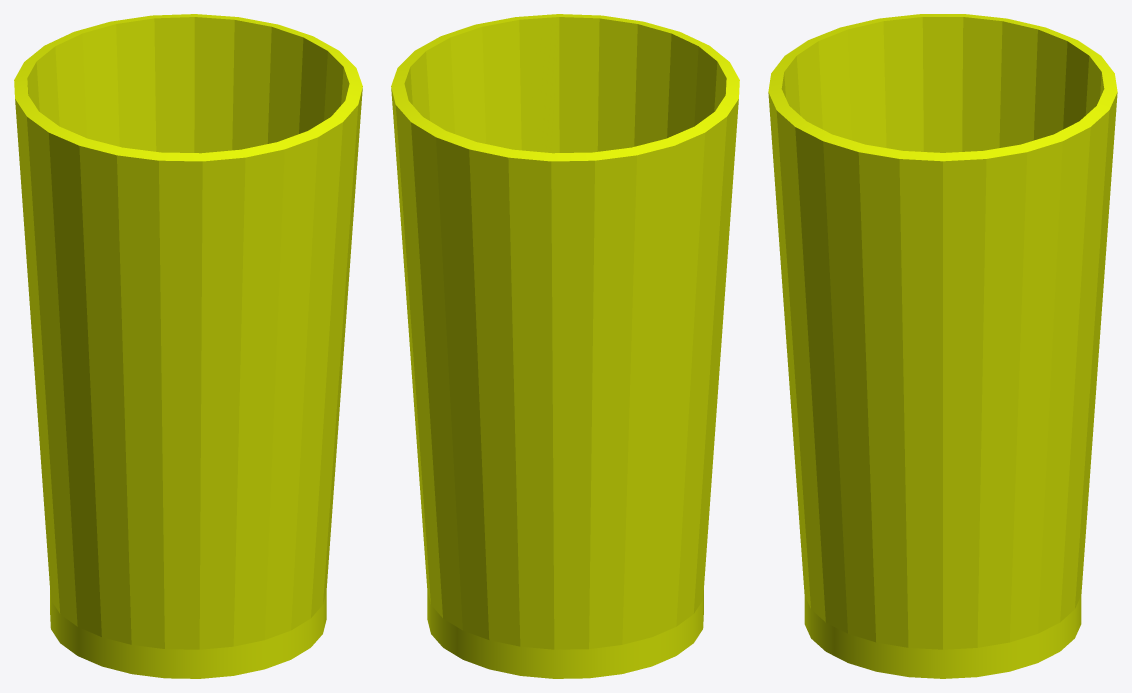
File: oglass_yellow.FBX
The picture shows the model from 3 angles, left to right: view 1: azimuth 30°, elevation 25°; view 2: azimuth 150°, elevation 25°; view 3: azimuth 270°, elevation 25°; orthographic projection.
Parts seen in each view (by area): view 1: Cylinder004; view 2: Cylinder004; view 3: Cylinder004.
Boxes of the visible parts, x1=… form: Cylinder004: x1=14, y1=14, x2=362, y2=678; Cylinder004: x1=391, y1=14, x2=739, y2=678; Cylinder004: x1=768, y1=14, x2=1117, y2=678.
Size of the model in its own units: 24.41 by 24.45 by 41.53.
Materials: 1 (1 with a texture image).
